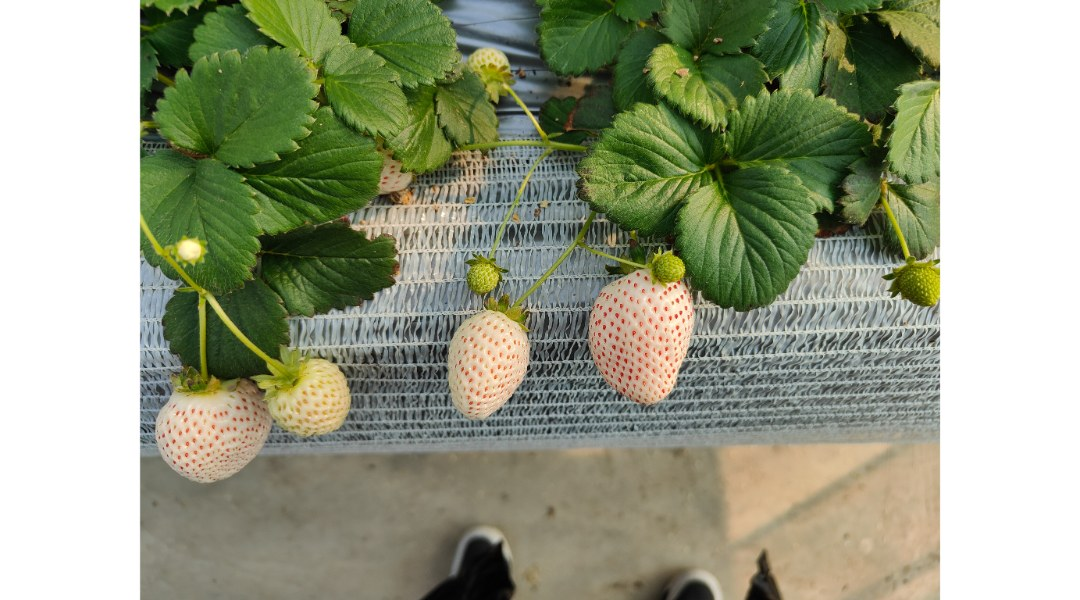berry: (588, 262, 691, 418), (152, 365, 272, 489), (443, 297, 529, 420), (256, 342, 359, 443), (464, 30, 516, 102), (887, 255, 942, 316), (461, 247, 507, 301), (647, 240, 684, 285), (173, 237, 210, 269)
strain: (495, 153, 551, 241), (528, 214, 590, 293), (211, 299, 277, 363), (134, 222, 200, 285), (187, 300, 213, 383), (880, 200, 914, 255), (516, 100, 546, 141)
